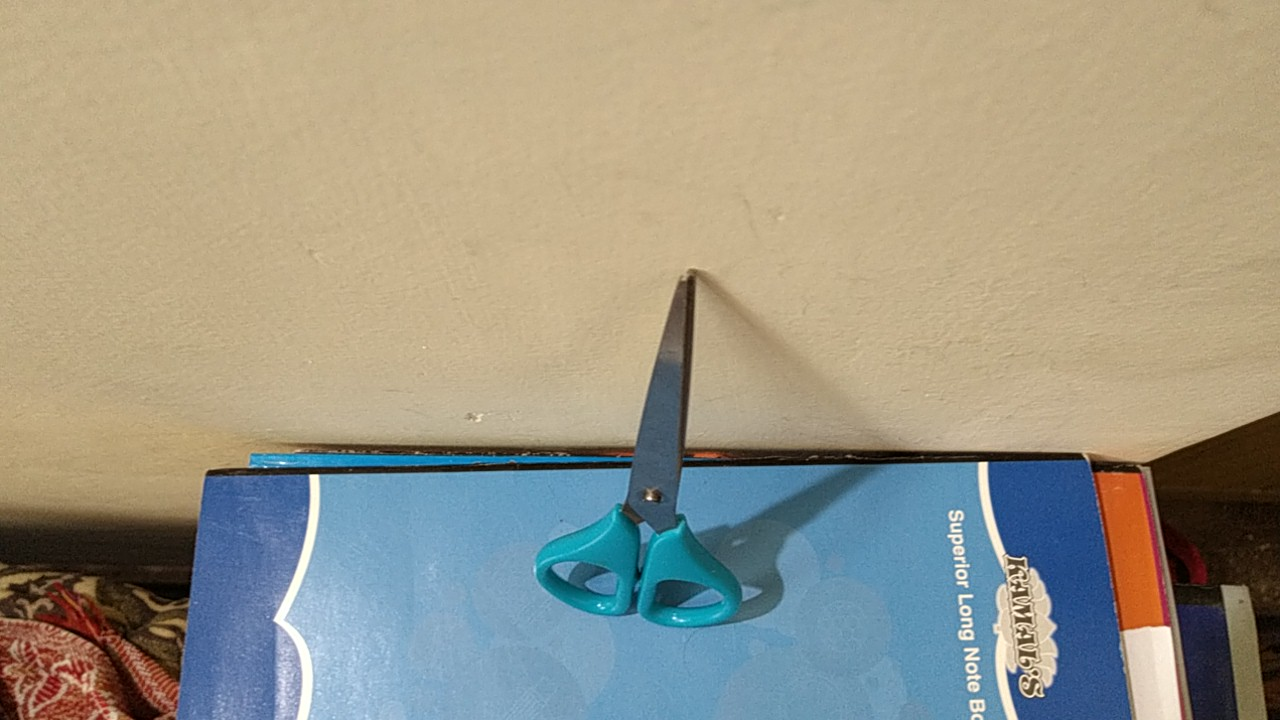scissor: (522, 260, 761, 643)
